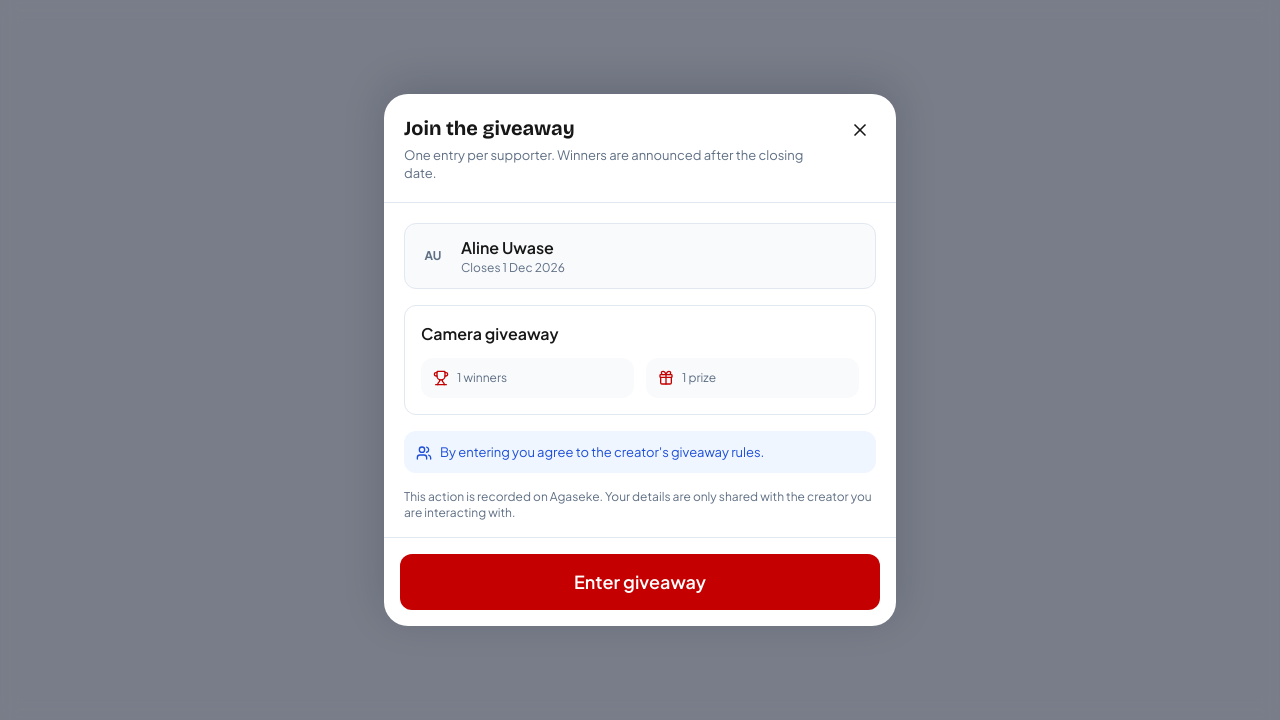
Test: supporter action sheets › shows a retryable failure for a giveaway entry
Click the button "Enter giveaway". click: [640, 582]
box: 400,554 -> 880,610
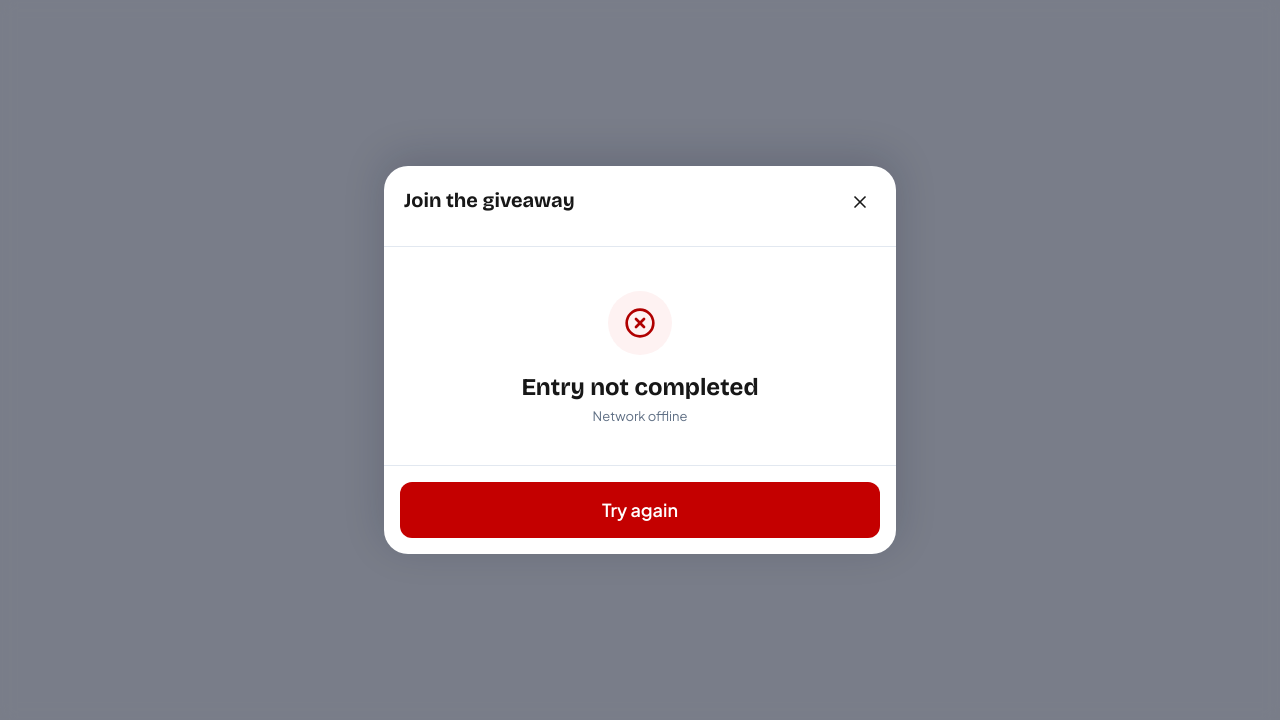
Expected: the heading "Entry not completed" is shown, 521,371 -> 758,403
Expected: the text "Network offline" is shown, 593,408 -> 687,424
Expected: the button "Try again" is shown, 400,482 -> 880,538
